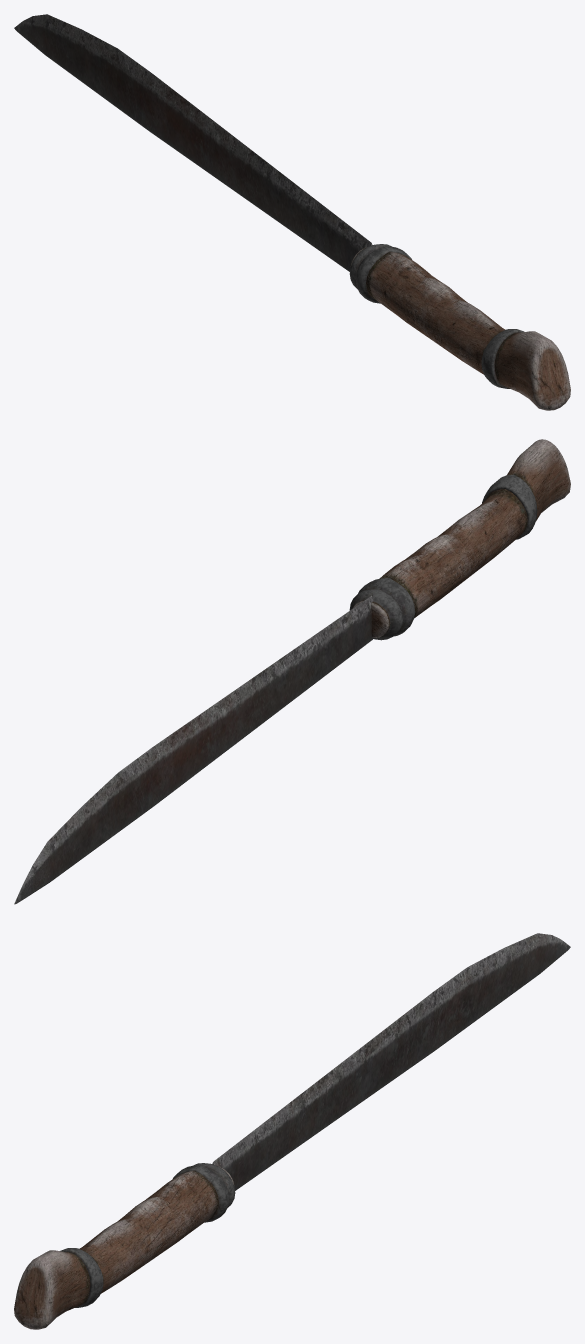
The model's file is machete.glb.
The picture shows the model from 3 angles, top to bottom: view 1: azimuth 30°, elevation 25°; view 2: azimuth 150°, elevation 25°; view 3: azimuth 330°, elevation 25°; orthographic projection.
Parts seen in each view (by area): view 1: weapon; view 2: weapon; view 3: weapon.
Boxes of the visible parts, x1,y1,x2,y2 form: weapon: (14,14,570,410); weapon: (14,439,570,904); weapon: (14,933,570,1329).
Size of the model in its own units: 0.0382 by 0.0526 by 0.65.
1 material, 1 textured.
